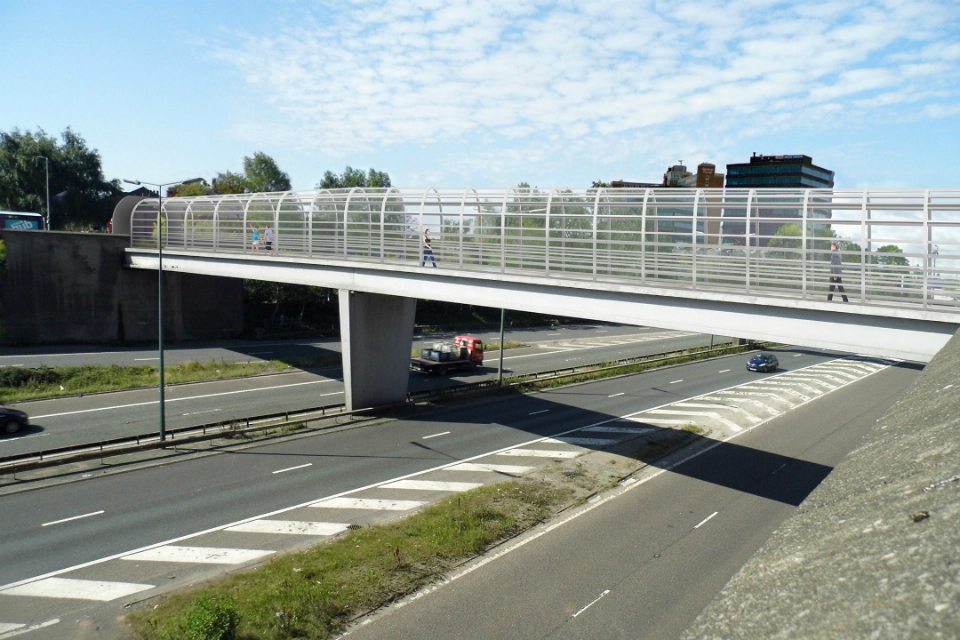bridge: (114, 178, 956, 373)
